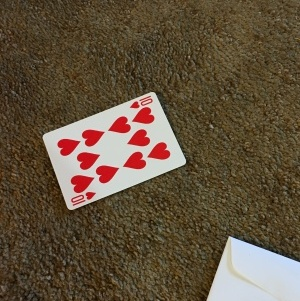card: (41, 91, 189, 210)
